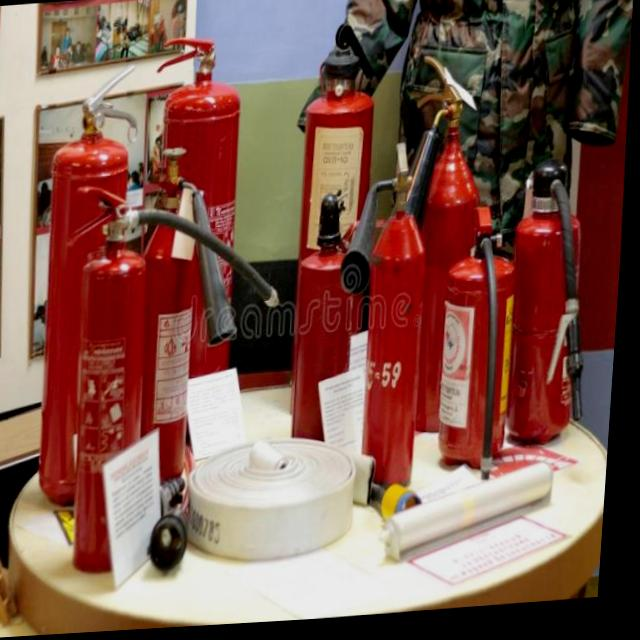FireExtinguisher: (43, 167, 302, 587), (32, 55, 159, 516), (130, 20, 264, 455), (124, 141, 259, 493), (388, 53, 503, 451), (327, 139, 448, 514), (282, 20, 390, 437), (500, 149, 606, 458), (431, 197, 539, 490), (284, 186, 379, 491)
